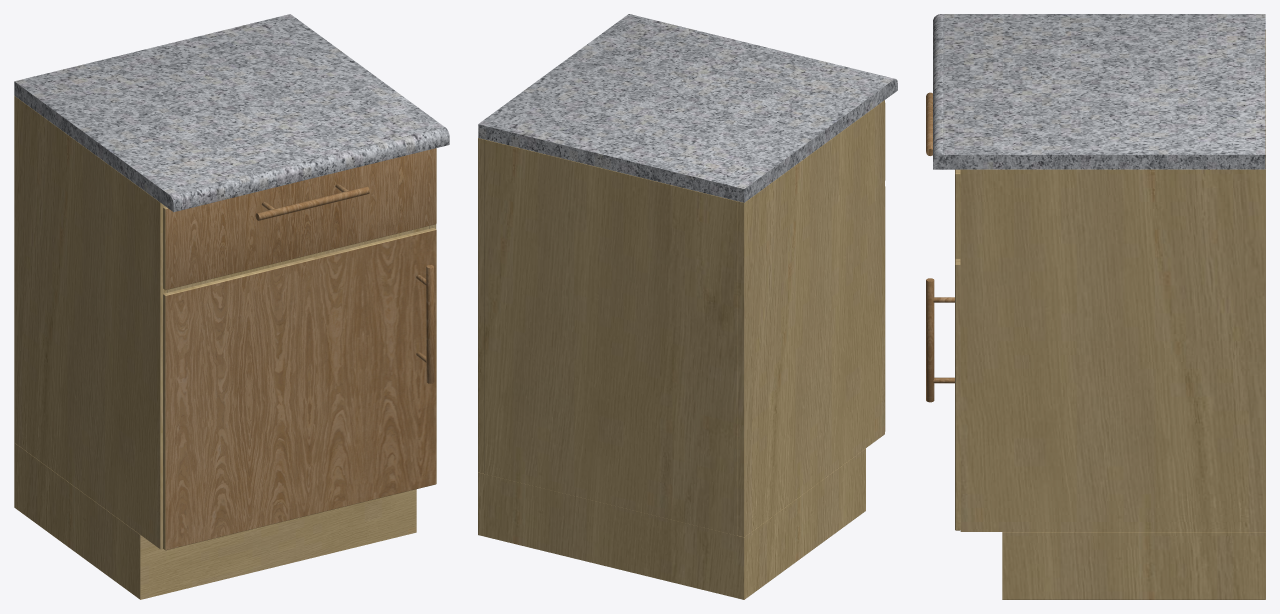
Rendered from kitchen_cabinet.glb.
3 renders of one model, left to right at view 1: azimuth 30°, elevation 25°; view 2: azimuth 150°, elevation 25°; view 3: azimuth 270°, elevation 25°, orthographic. The views are drawn at different scales.
Visible parts, largest first — view 1: GC_100L.004_Cube.016; view 2: GC_100L.004_Cube.016; view 3: GC_100L.004_Cube.016.
Part boxes in pixels (x1,y1,x2,y2): GC_100L.004_Cube.016: [14, 14, 449, 599]; GC_100L.004_Cube.016: [478, 14, 897, 599]; GC_100L.004_Cube.016: [926, 14, 1265, 599].
Size of the model in its own units: 0.6 by 0.885 by 0.612.
6 materials, 6 textured.
